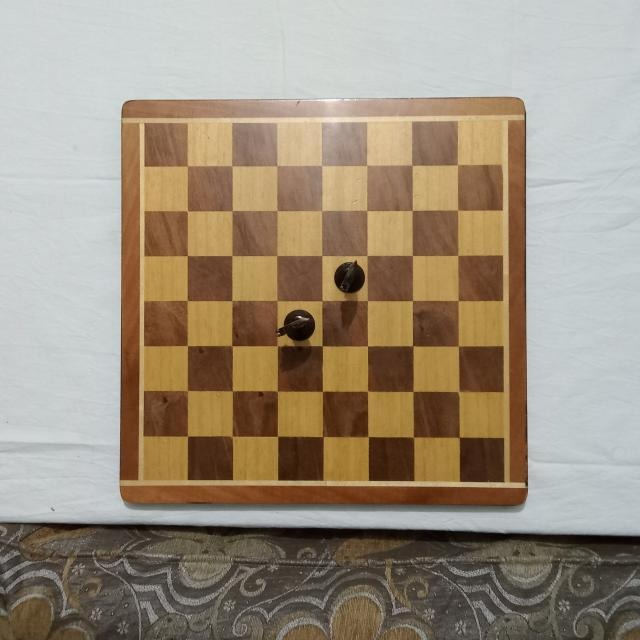black-knight: (277, 307, 318, 341), (332, 259, 365, 293)
